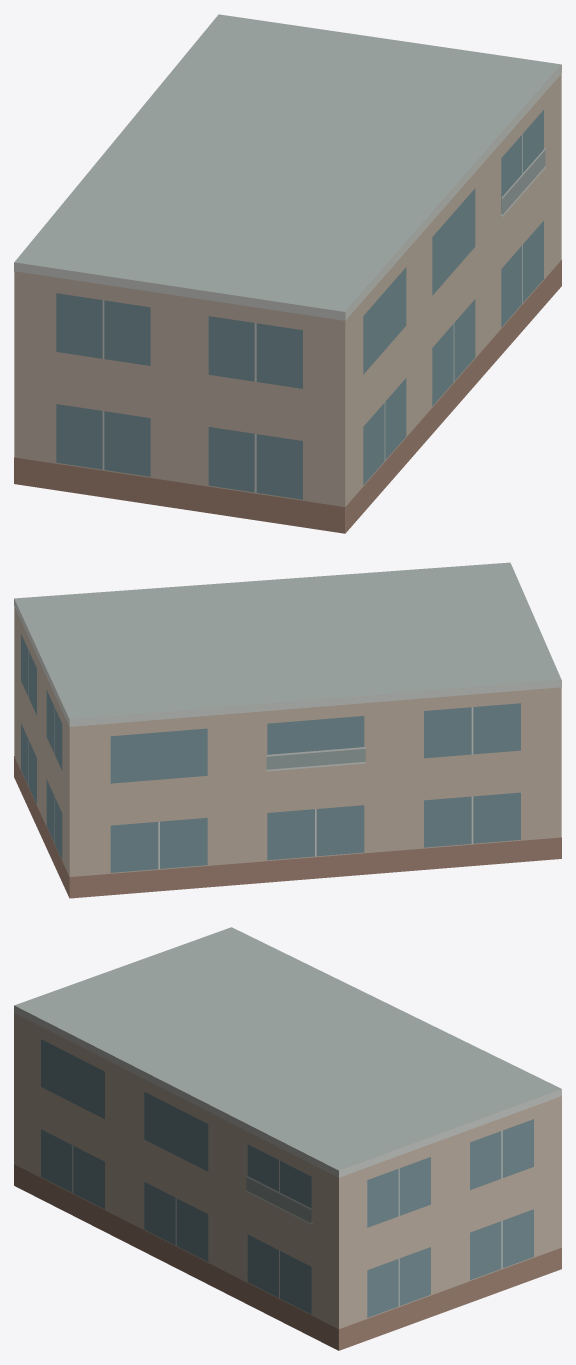
File: survey-upis-33044878.glb
3 views of the same model, one above another, from view 1: azimuth 30°, elevation 25°; view 2: azimuth 150°, elevation 25°; view 3: azimuth 270°, elevation 25° (orthographic). The views are drawn at different scales.
Parts seen in each view (by area): view 1: survey-upis-33044878.tmp; view 2: survey-upis-33044878.tmp; view 3: survey-upis-33044878.tmp.
Part boxes in pixels (x1,y1,x2,y2): survey-upis-33044878.tmp: [14, 14, 561, 533]; survey-upis-33044878.tmp: [14, 562, 561, 898]; survey-upis-33044878.tmp: [14, 927, 561, 1350].
Bounding box in the file's own units: 17.68 × 6.1 × 16.81.
